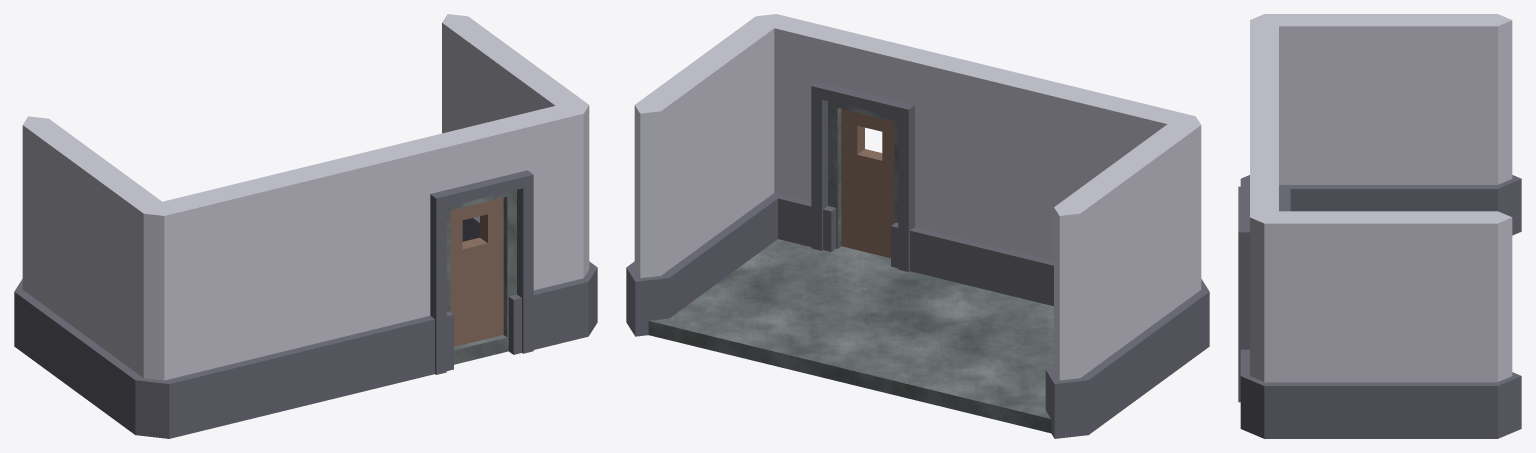
File: hallway_end_06.fbx
The picture shows the model from 3 angles, left to right: view 1: azimuth 30°, elevation 25°; view 2: azimuth 150°, elevation 25°; view 3: azimuth 270°, elevation 25°; orthographic projection. The views are drawn at different scales.
Visible parts, largest first — view 1: corner_01_92, door_02_94, wall_01_93; view 2: corner_01_92, floor_04_90, door_02_94, wall_01_93; view 3: wall_01_93, corner_01_92, door_02_94.
Part boxes in pixels (<box>): corner_01_92: <box>14,116,382,438</box>; door_02_94: <box>355,102,597,387</box>; wall_01_93: <box>442,14,597,335</box>; corner_01_92: <box>963,65,1209,438</box>; floor_04_90: <box>648,239,1053,433</box>; door_02_94: <box>756,14,985,284</box>; wall_01_93: <box>626,14,781,336</box>; wall_01_93: <box>1241,211,1521,438</box>; corner_01_92: <box>1240,14,1521,235</box>; door_02_94: <box>1238,112,1290,438</box>.
Size of the model in its own units: 22.05 by 10 by 12.15.
